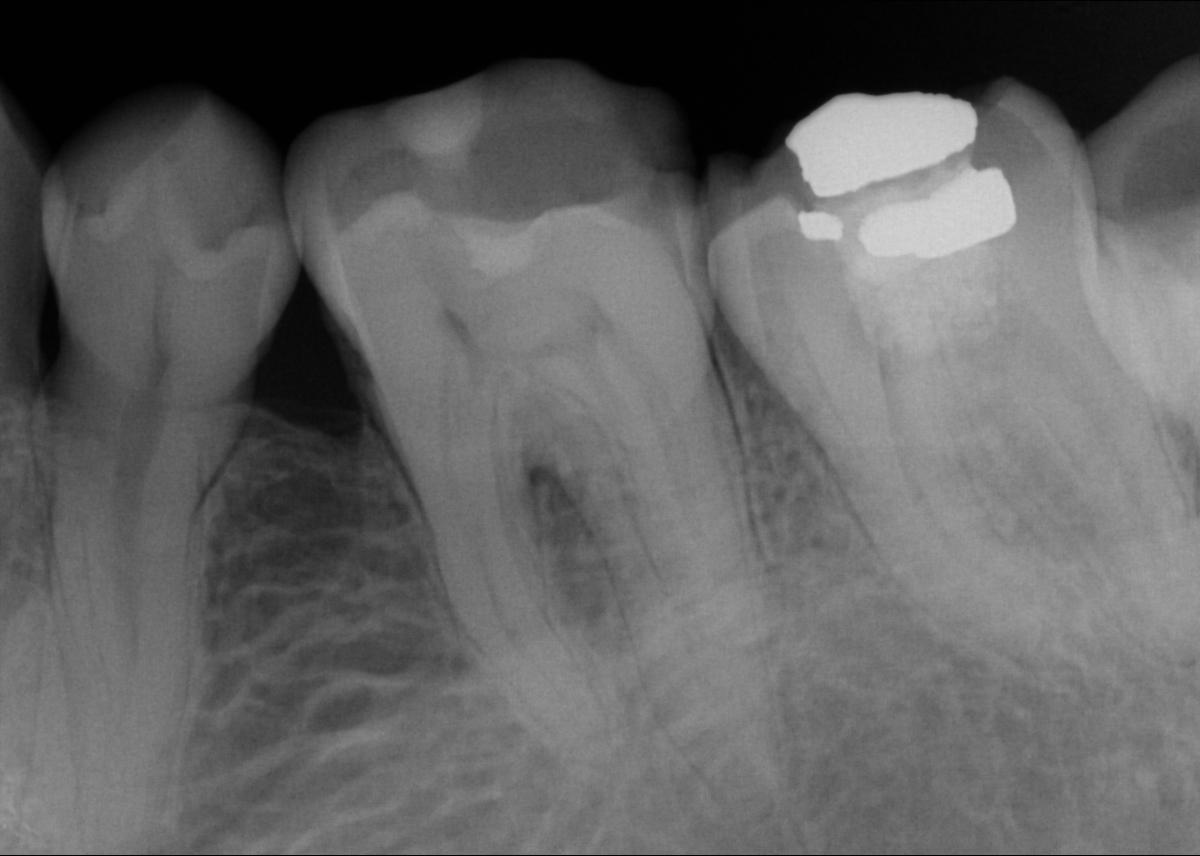Endo-Periodontal Lesion: (527, 464, 591, 544)
